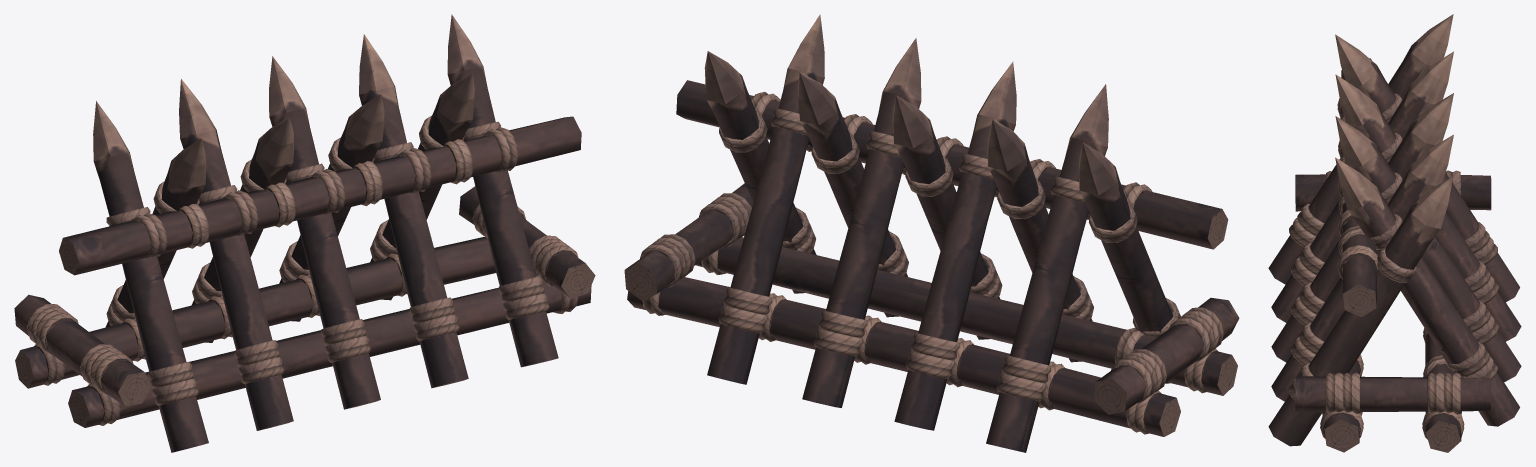
File: Barricade_big.FBX
3 renders of one model, left to right at view 1: azimuth 30°, elevation 25°; view 2: azimuth 150°, elevation 25°; view 3: azimuth 270°, elevation 25°, orthographic. The views are drawn at different scales.
Visible parts, largest first — view 1: Object027; view 2: Object027; view 3: Object027.
Boxes of the visible parts, x1,y1,x2,y2 form: Object027: (14,14,595,452); Object027: (624,14,1239,452); Object027: (1268,14,1521,452).
Bounding box in the file's own units: 3.33 × 1.84 × 1.55.
1 material, 1 textured.
